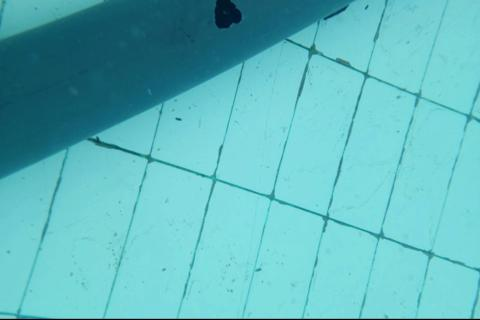kebocoran: (212, 0, 243, 32)
